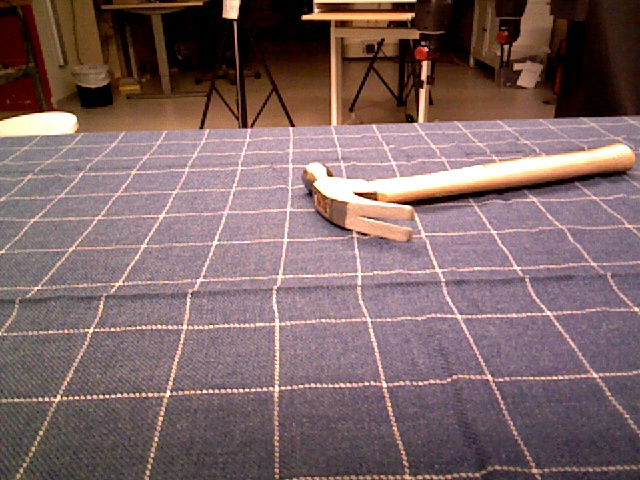hammer1: (301, 141, 636, 245)
